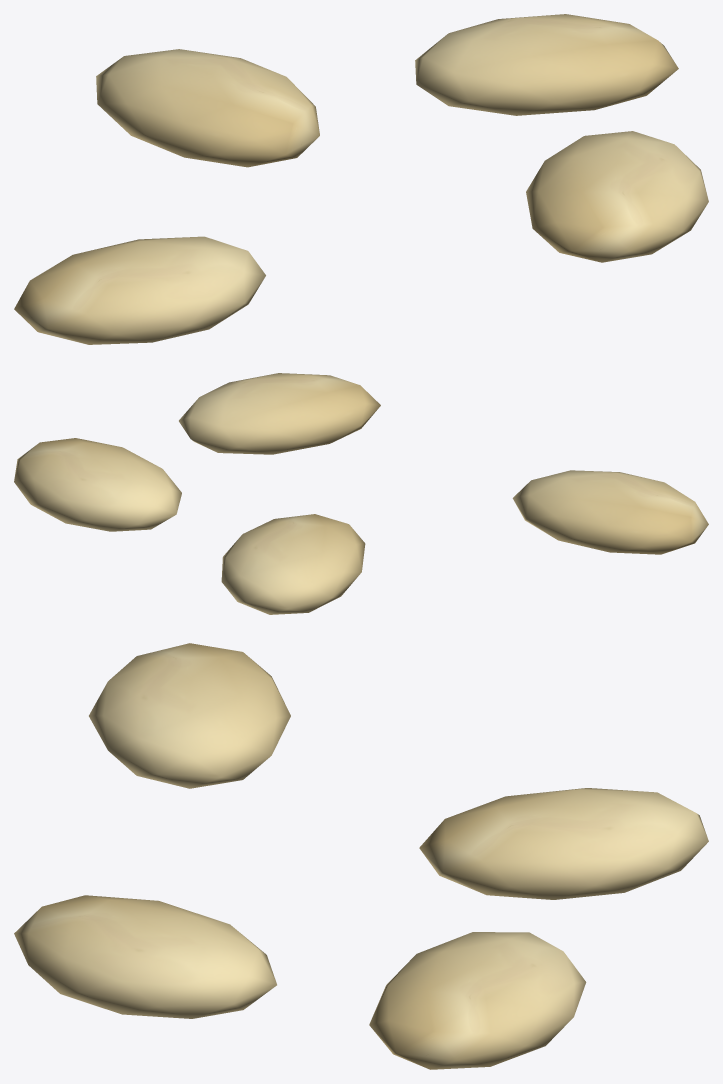
The model's file is NP_ChiliPepper_Seed.fbx.
3 renders of one model, top to bottom at view 1: azimuth 30°, elevation 25°; view 2: azimuth 150°, elevation 25°; view 3: azimuth 270°, elevation 25°, orthographic. The views are drawn at different scales.
Visible parts, largest first — view 1: NP_ChiliPepper_Seed; view 2: NP_ChiliPepper_Seed; view 3: NP_ChiliPepper_Seed.
Part boxes in pixels (bbox=[...]): NP_ChiliPepper_Seed: bbox=[14, 14, 708, 344]; NP_ChiliPepper_Seed: bbox=[14, 373, 708, 614]; NP_ChiliPepper_Seed: bbox=[14, 643, 708, 1069].
Size of the model in its own units: 14.23 by 1.2 by 10.3.
